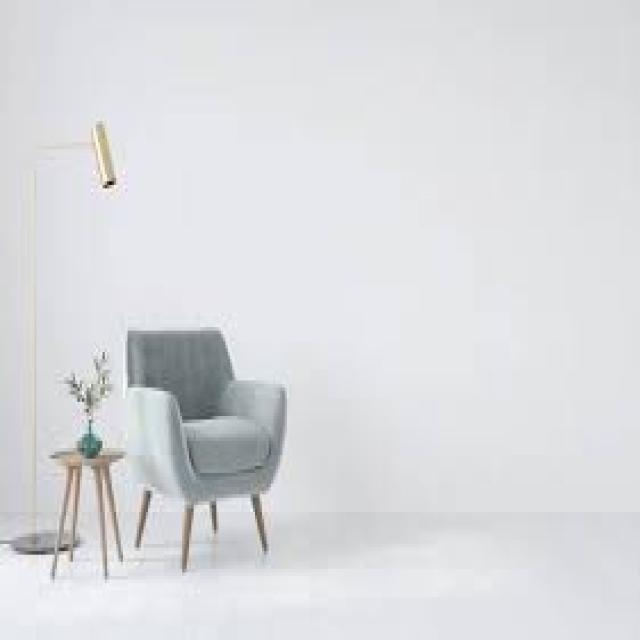chair: (121, 279, 291, 602)
